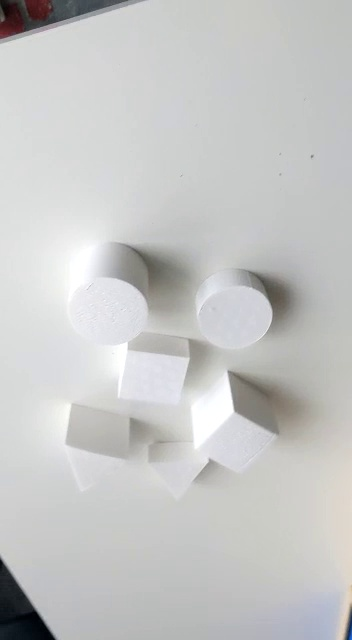Clyinder_short: (192, 267, 275, 352)
Cube: (188, 367, 282, 481)
Cube_short: (113, 323, 192, 417)
Cylinder: (61, 240, 152, 349)
Triangle: (59, 399, 135, 496)
Triangle_short: (146, 437, 212, 502)
